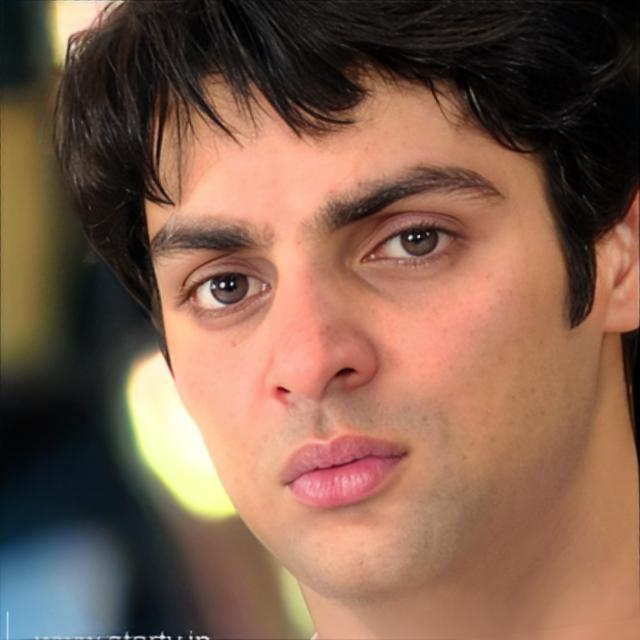anger: (150, 87, 570, 596)
